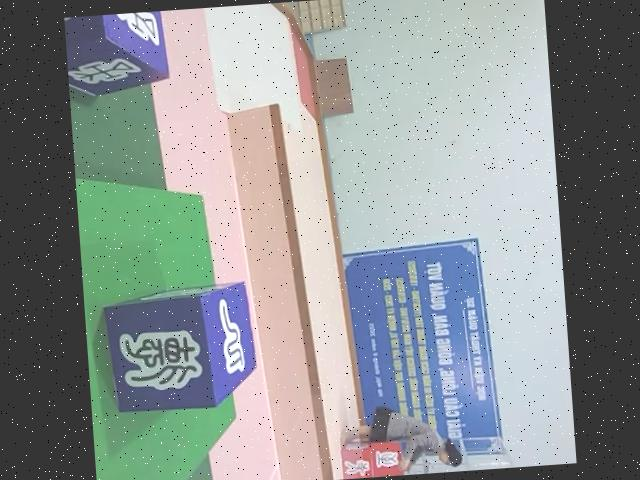R2 Fake Blue: (100, 281, 262, 415)
R2 Real Blue: (64, 10, 169, 96)
